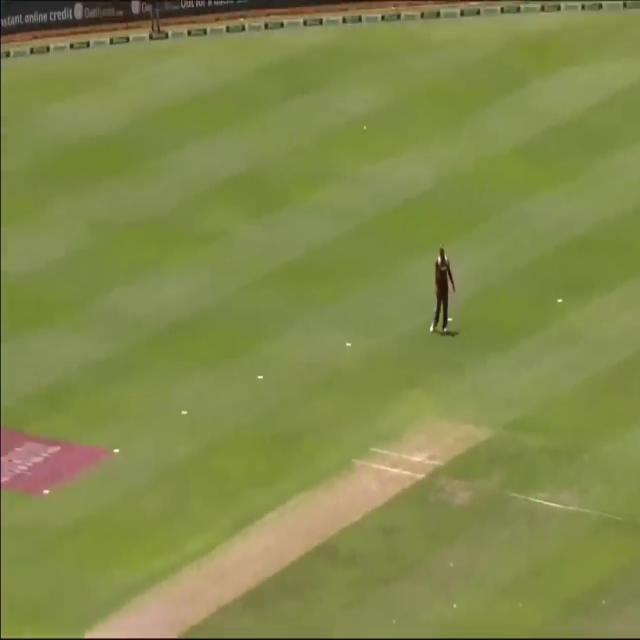Fielder: (420, 242, 460, 338)
